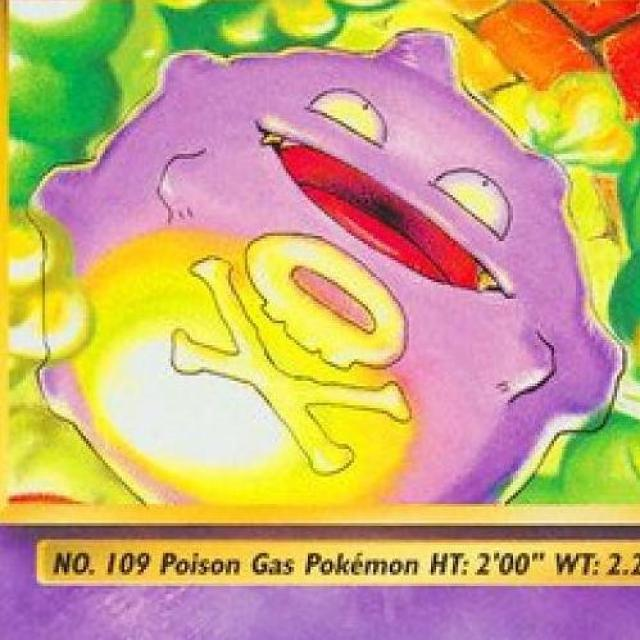Koffing: (24, 33, 638, 513)
